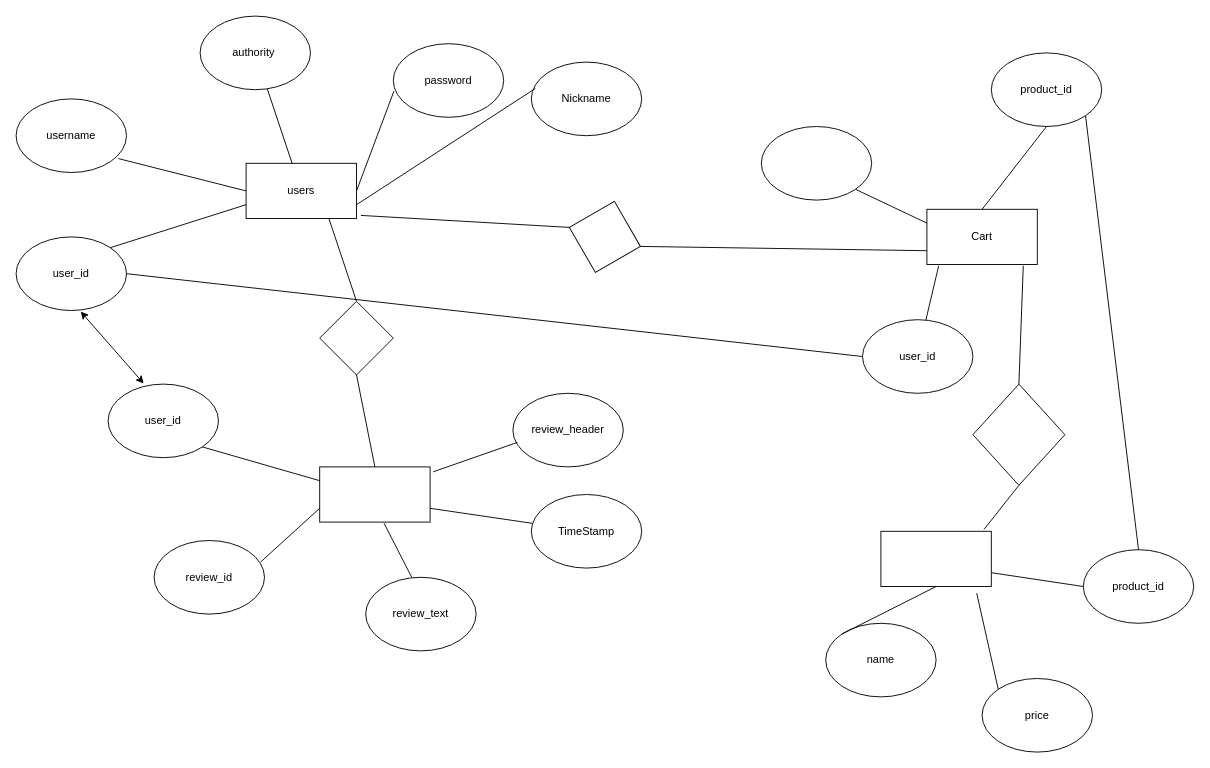
The diagram is 1210 pixels wide and 768 high, and some of its shapes have lost their labels. Here are the shapes that lost their labels. From the top down, the centre of each, then its label:
[816,163]: cart_id
[604,236]: en till en relation
[356,337]: många till en relation
[1018,434]: Många till många relation
[374,494]: review
[935,558]: products
